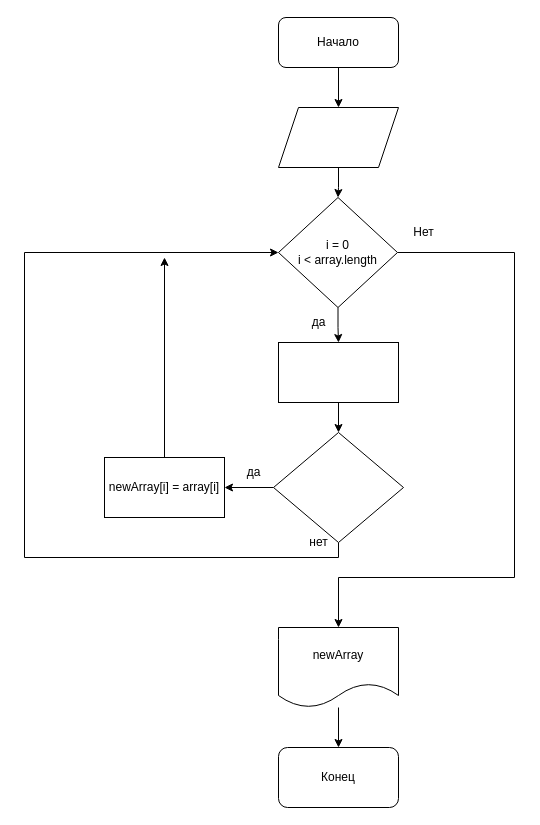
This 540x825 diagram has some shape labels left out. Each missing label, with the box of its shape:
array: (278, 106, 398, 168)
array[i].Length > 3: (272, 432, 404, 542)
i+=1: (278, 342, 398, 402)
